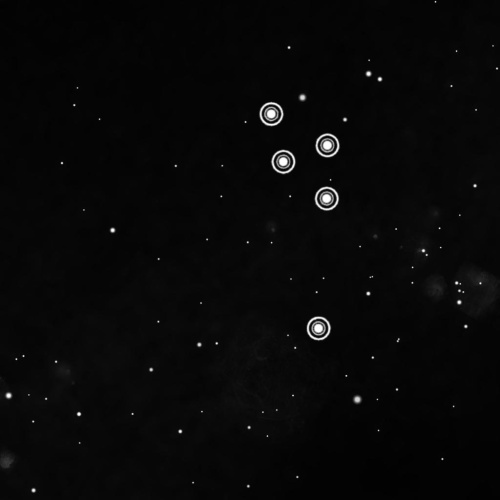delphinus: (244, 91, 344, 352)
